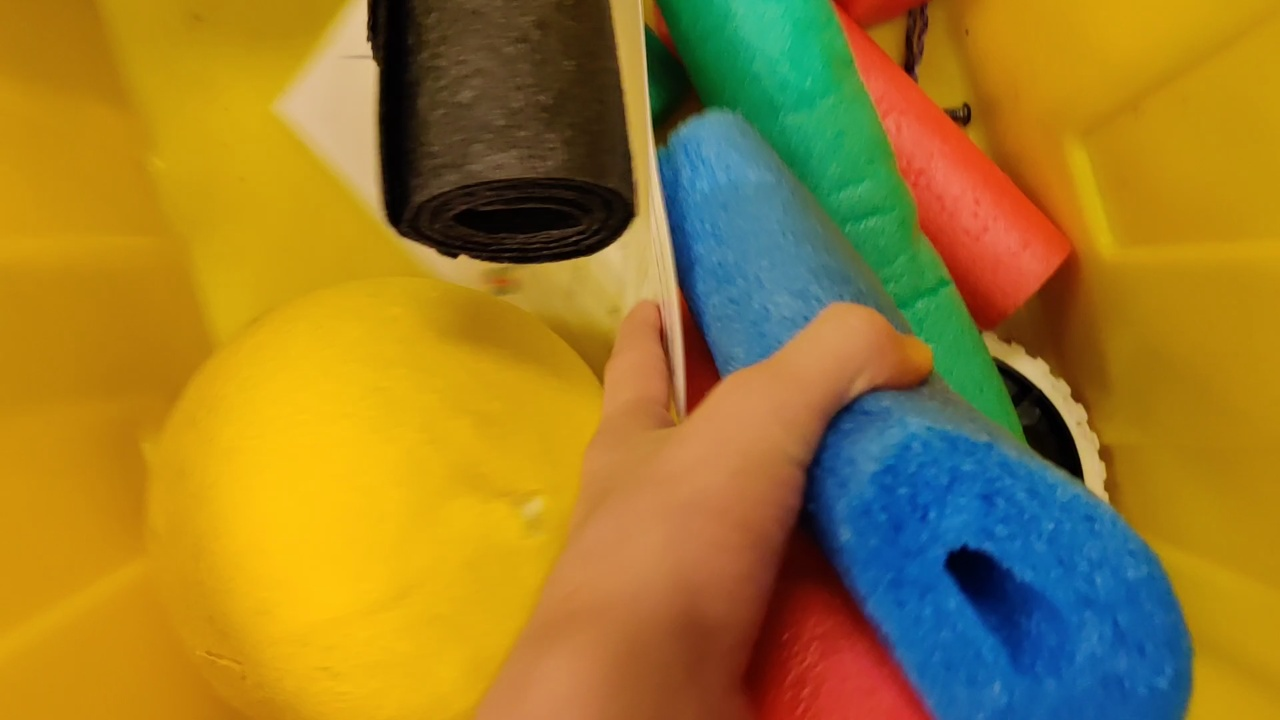Ball: (143, 278, 603, 716)
